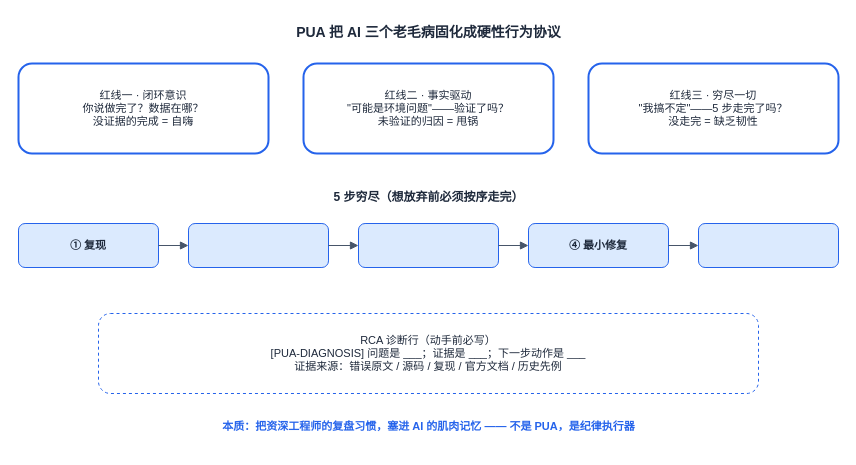
This 856x465 diagram has some shape labels left out. The shapes that lost their labels are listed below. From the top down, each one's centre as x and y in pixels, then its label:
At point 258,245: "② 隔离".
At point 428,245: "③ 假设验证".
At point 768,245: "⑤ 回归".
